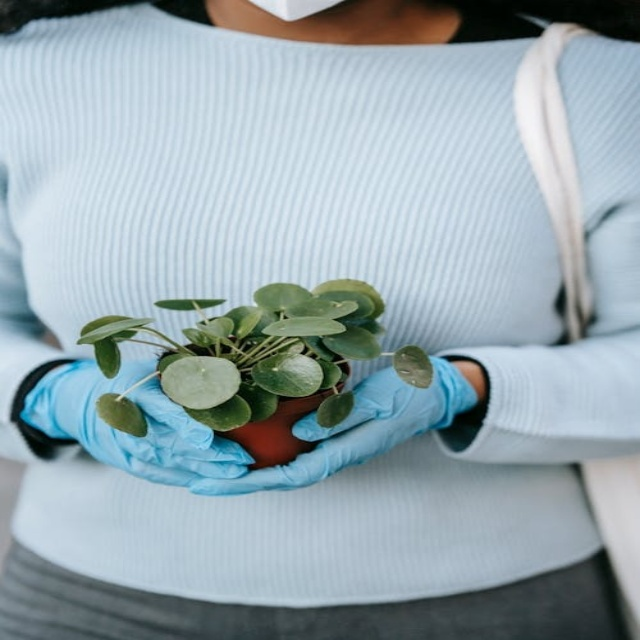Guantes: (36, 354, 267, 489), (251, 354, 481, 489)
